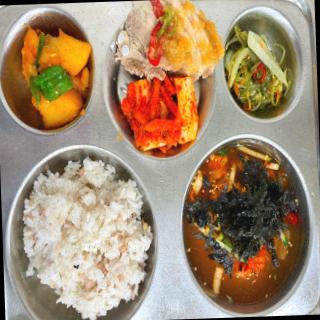Nasi: (21, 154, 156, 320)
